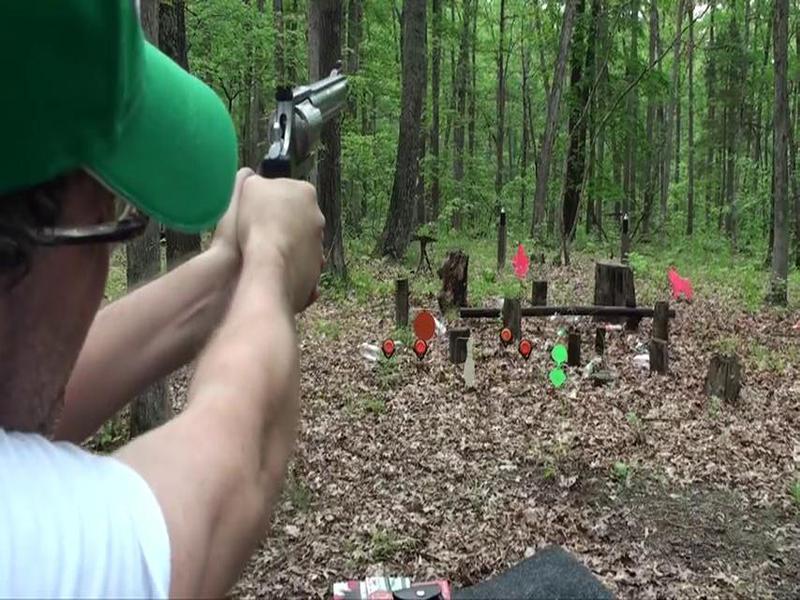Revolver: (256, 37, 378, 264)
